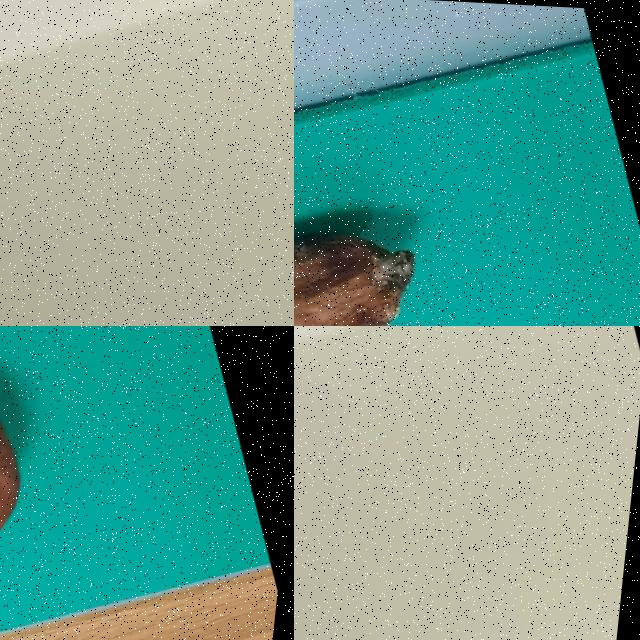Fine_cocoabeans: (294, 108, 543, 325), (0, 326, 151, 635)
Flat_cocoabeans: (0, 0, 293, 72)
